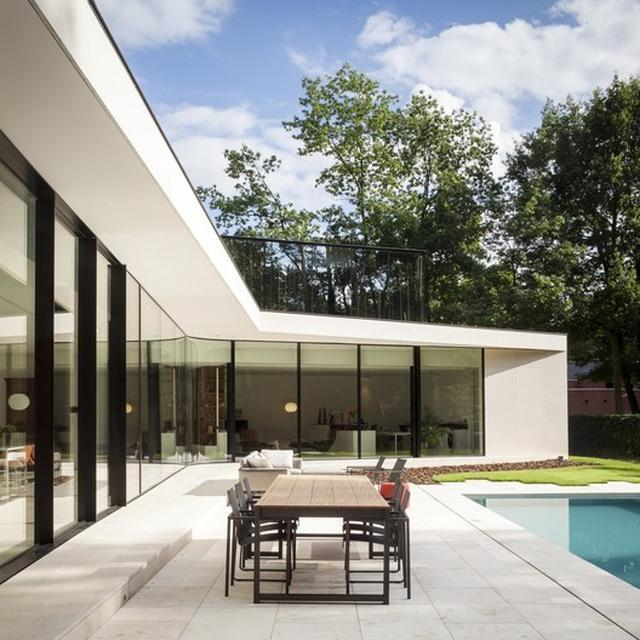building: (0, 0, 569, 584)
